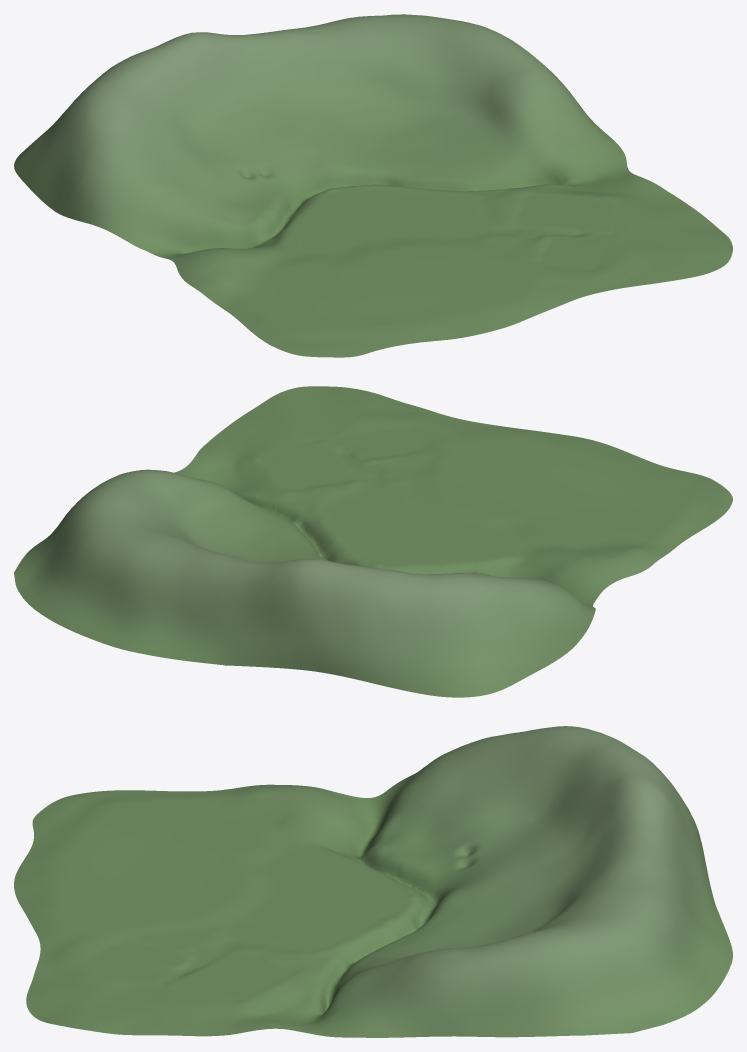
Rendered from terrain-instanced-trees-v1.glb.
3 renders of one model, top to bottom at view 1: azimuth 30°, elevation 25°; view 2: azimuth 150°, elevation 25°; view 3: azimuth 270°, elevation 25°, orthographic. The views are drawn at different scales.
Visible parts, largest first — view 1: Plane.002; view 2: Plane.002; view 3: Plane.002.
Part boxes in pixels (x1,y1,x2,y2): Plane.002: (14,14,732,357); Plane.002: (14,386,732,697); Plane.002: (14,726,732,1037).
Bounding box in the file's own units: 47.95 × 9.99 × 54.42.
1 material, 1 textured.
